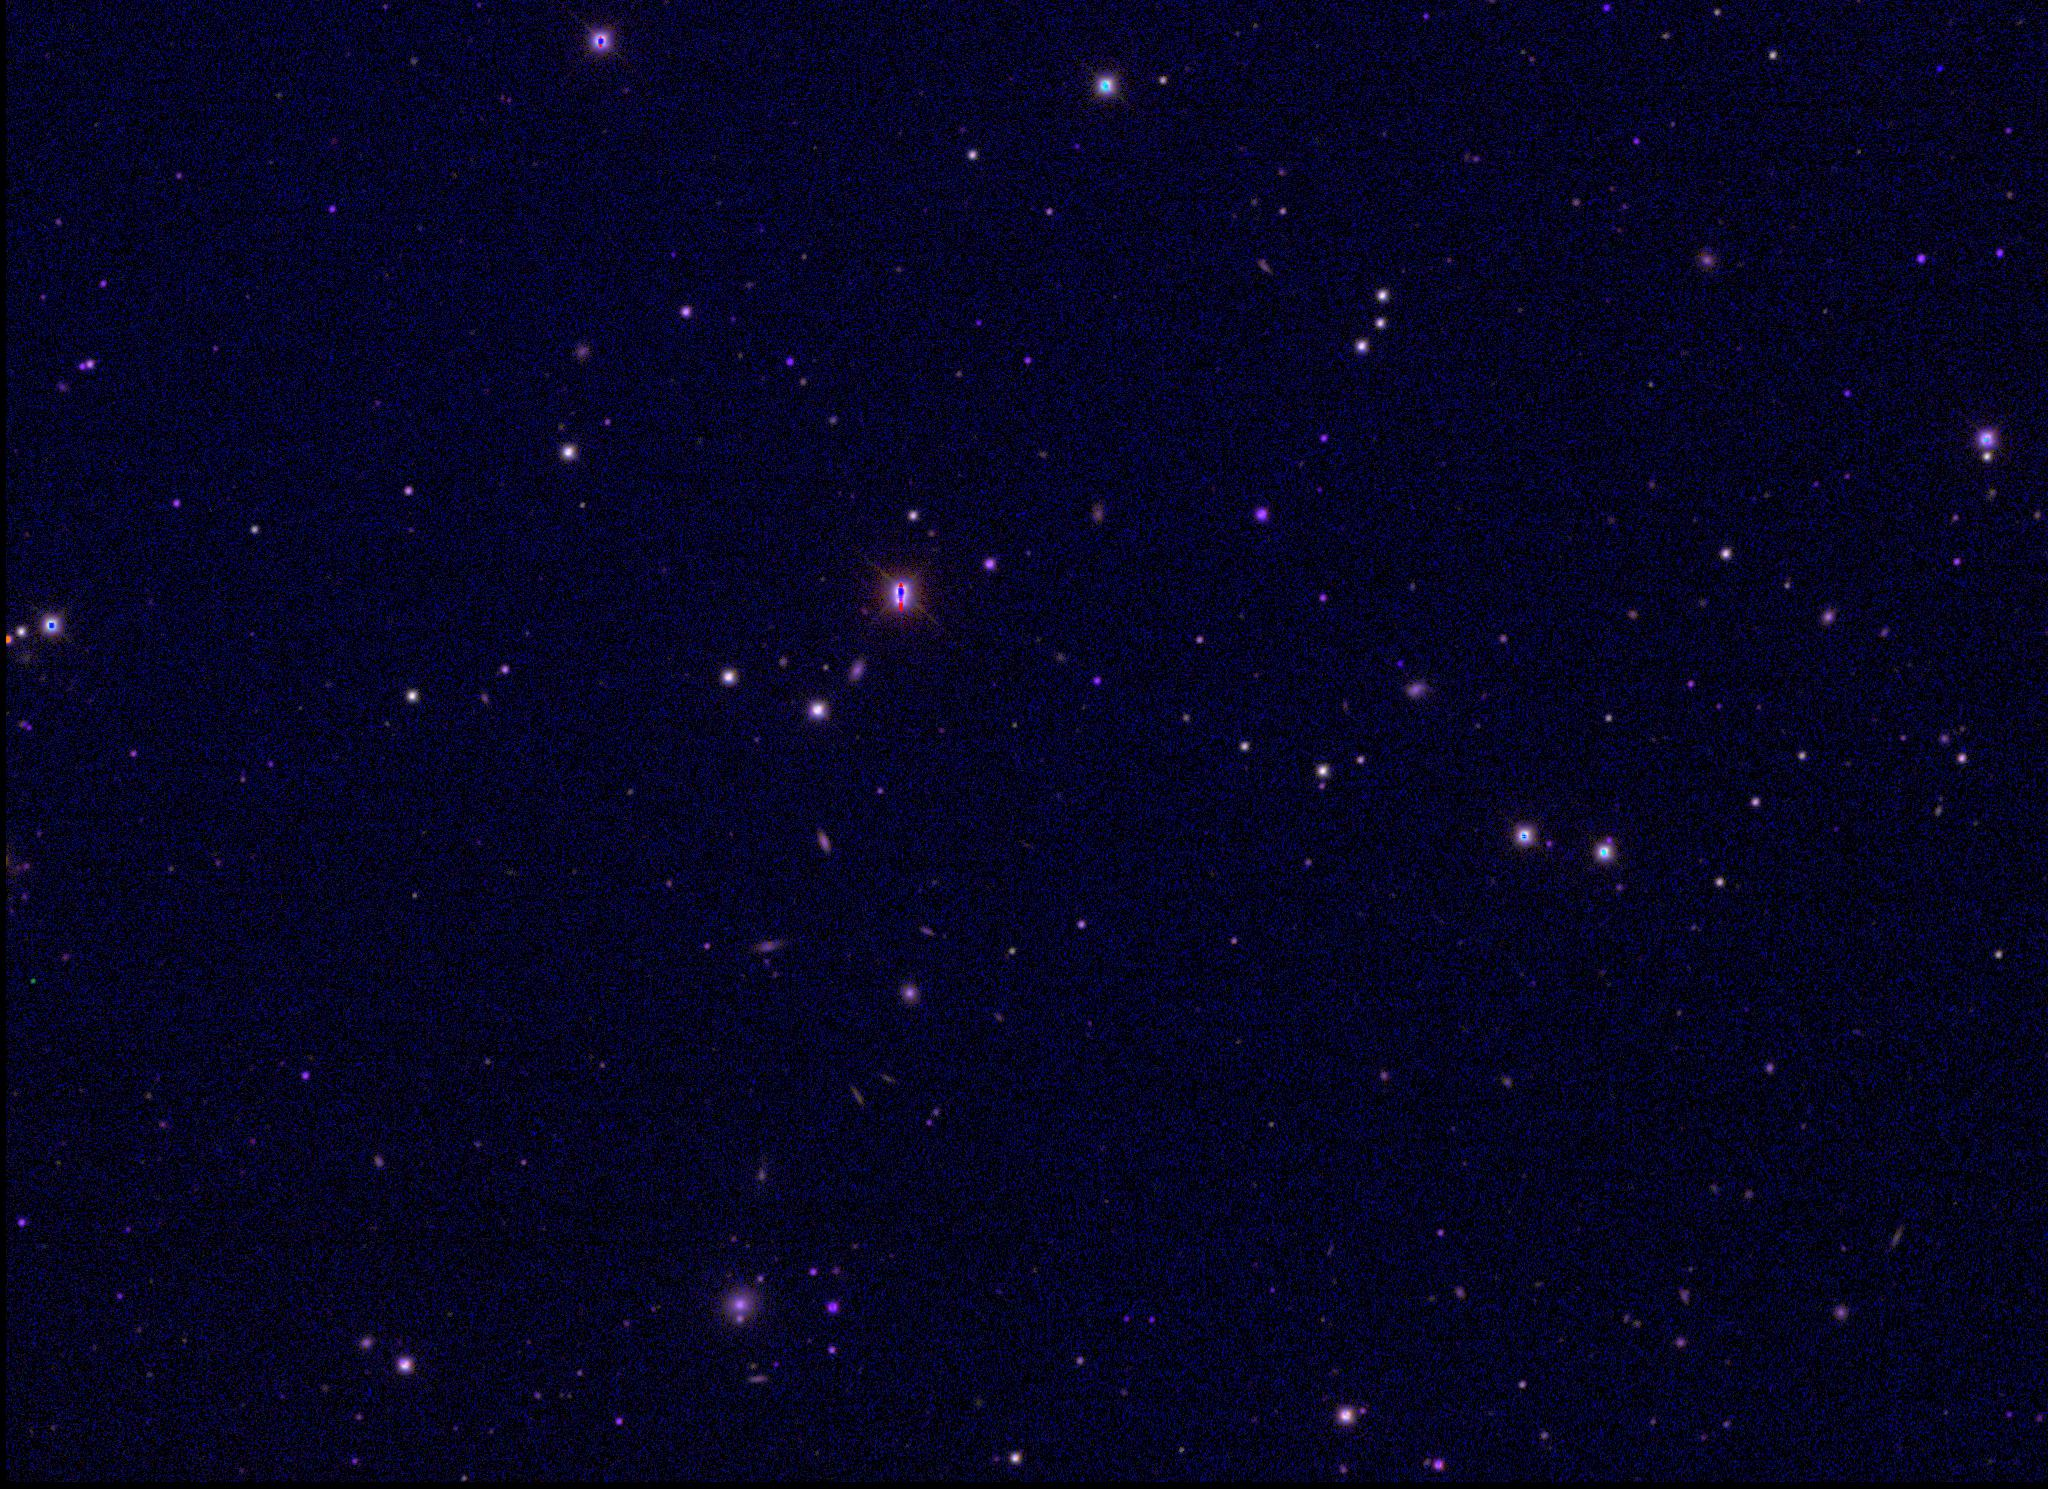L: (1934, 62, 1946, 76)
